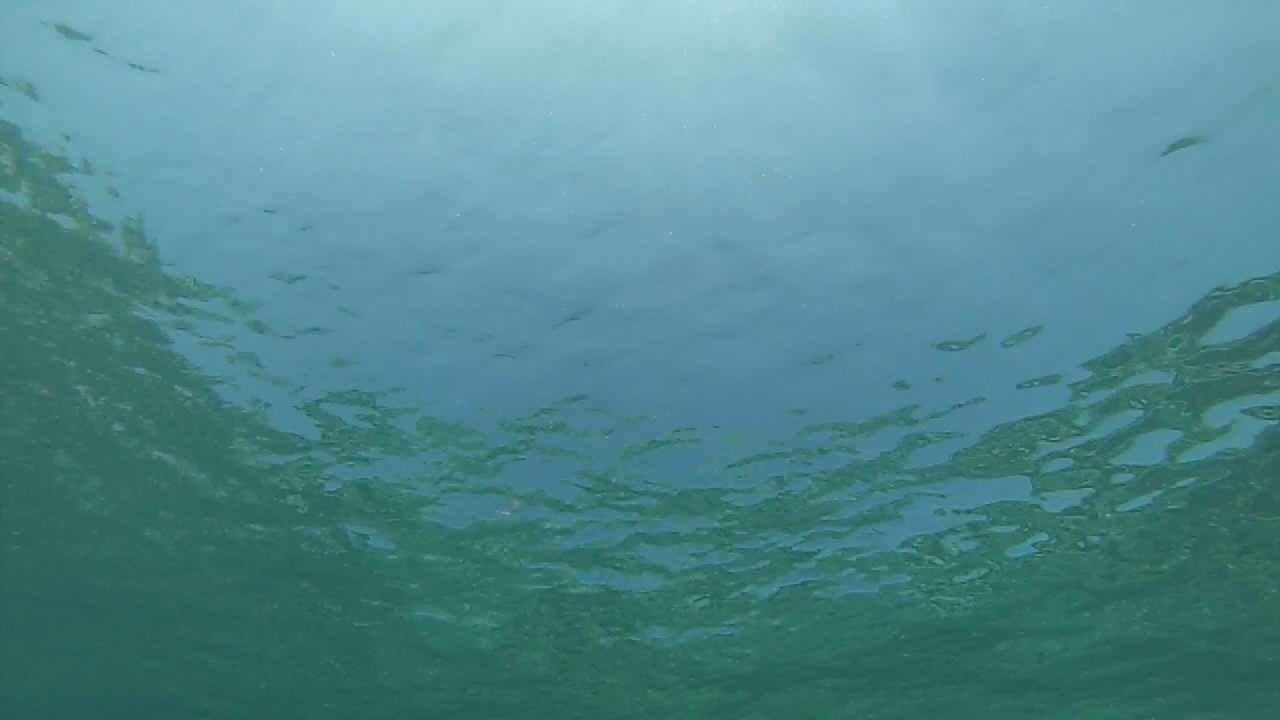pelagia: (492, 494, 532, 526)
